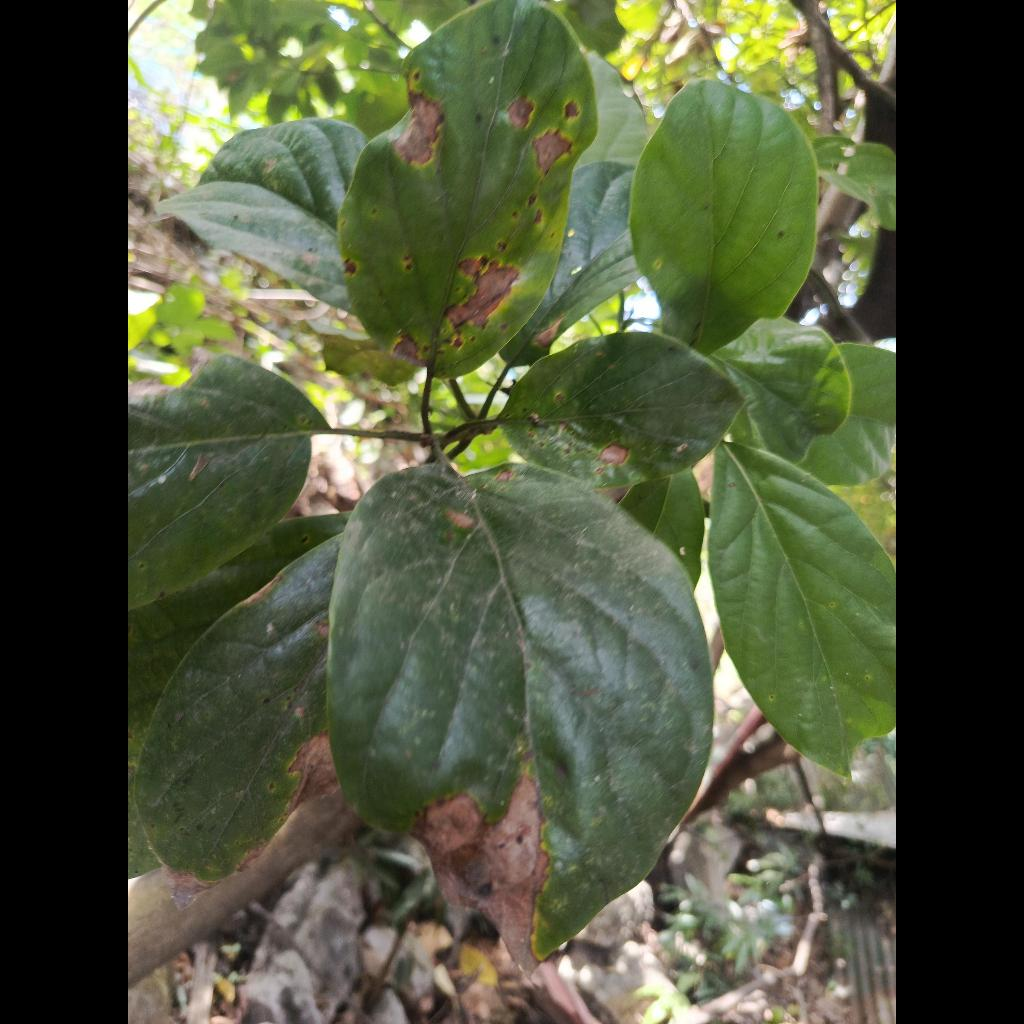antracnosis_hoja: (327, 465, 713, 972), (338, 0, 596, 377)
